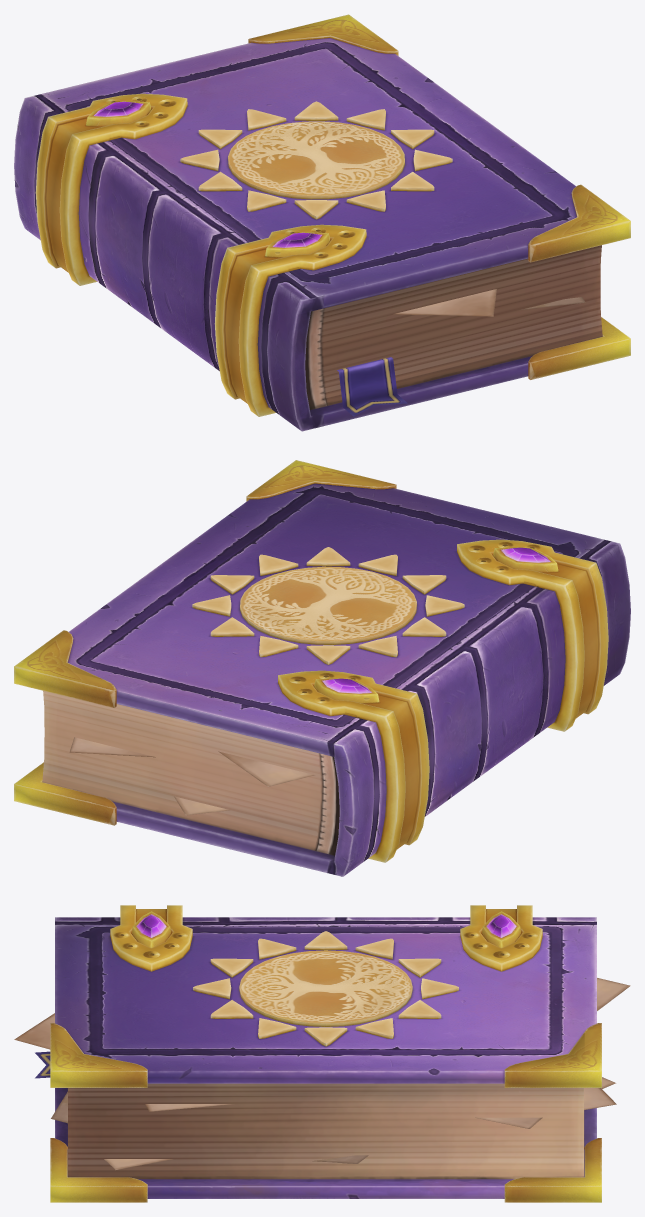
Rendered from book.gltf.
The picture shows the model from 3 angles, top to bottom: view 1: azimuth 30°, elevation 25°; view 2: azimuth 150°, elevation 25°; view 3: azimuth 270°, elevation 25°; orthographic projection. The views are drawn at different scales.
Bounding box in the file's own units: 2.15 × 0.966 × 3.35.
1 material, 1 textured.
